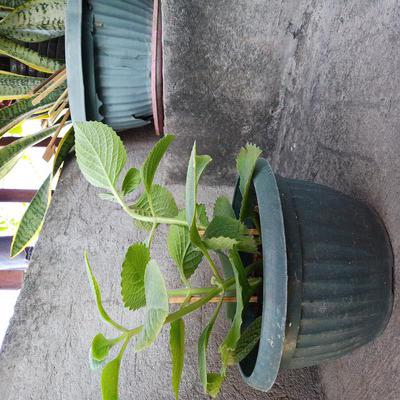Oregano: (54, 146, 258, 388)
